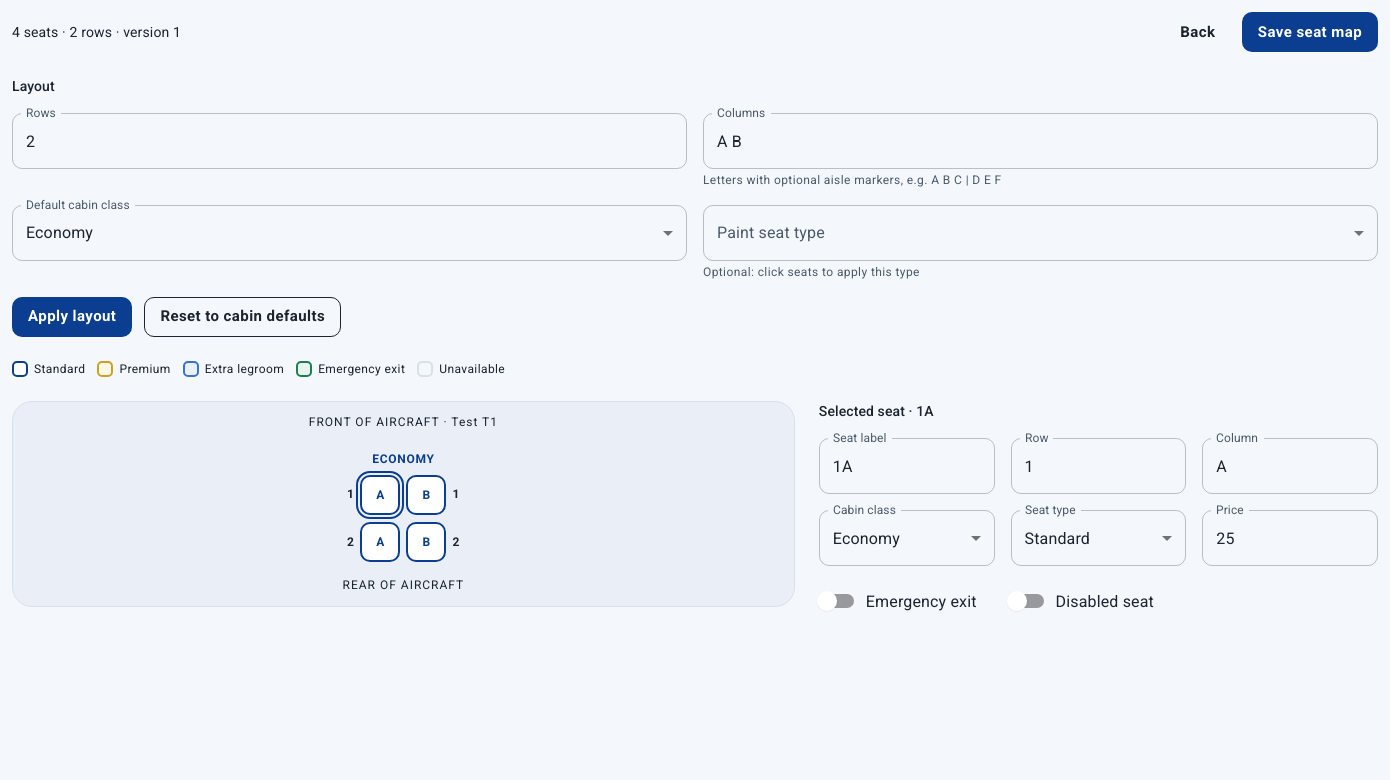
Test: AircraftSeatMapEditor › surfaces apply-layout Zod, Error, and unknown failures
Click the button "Apply layout" at (72, 317), box 12,297 -> 132,337
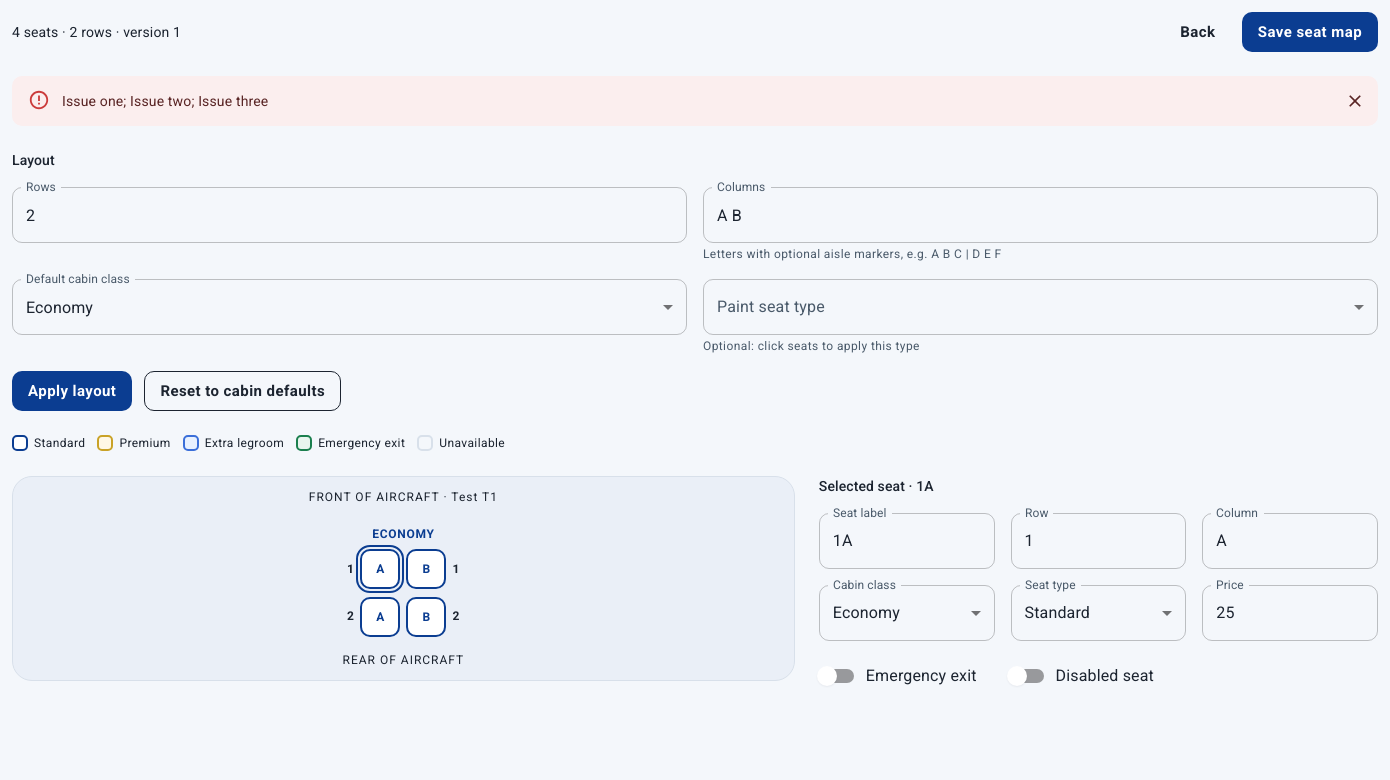
Now the message reads "Issue one; Issue two; Issue three", box 62,93 -> 268,109
Click the button named "Close" at (1355, 101), box 1340,86 -> 1370,116
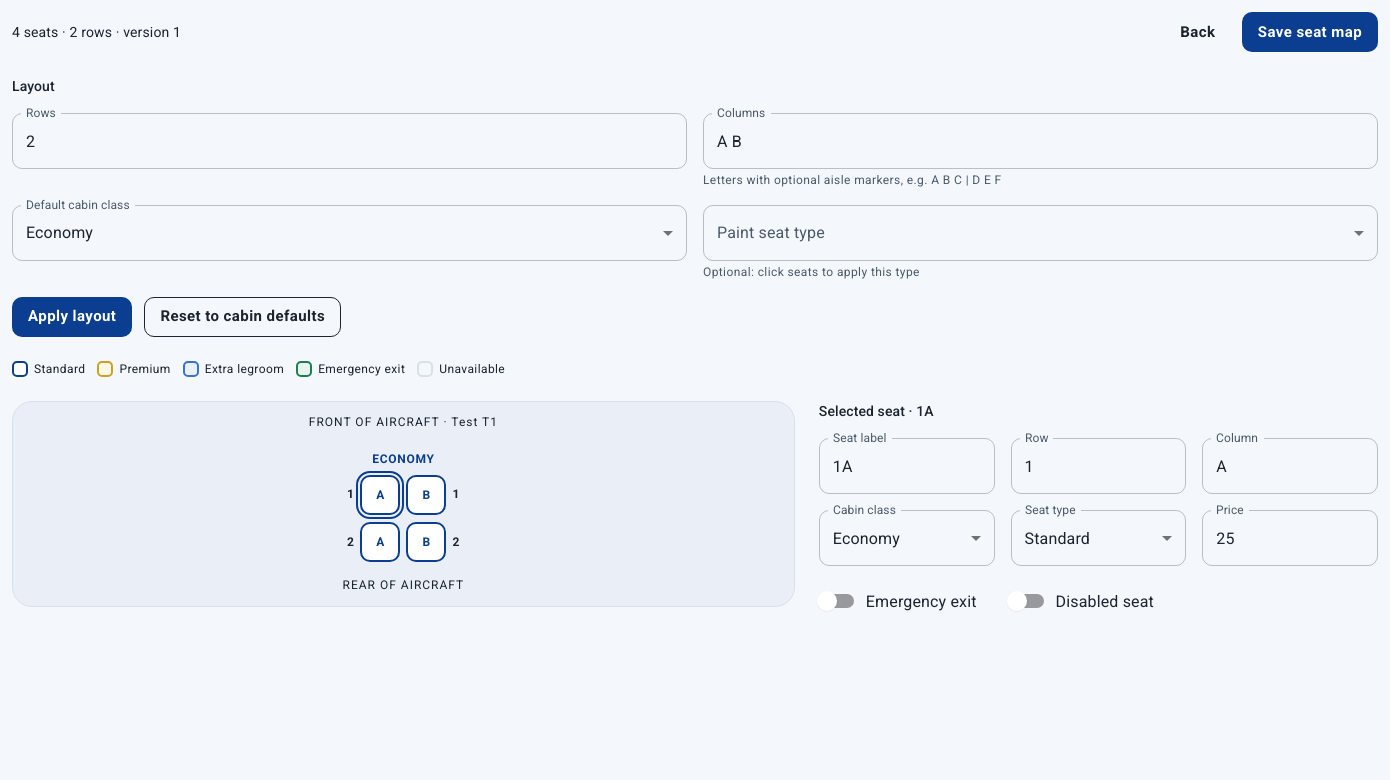
Now the message "Issue one; Issue two; Issue three" is gone
Click the button "Apply layout" at (72, 317), box 12,297 -> 132,337
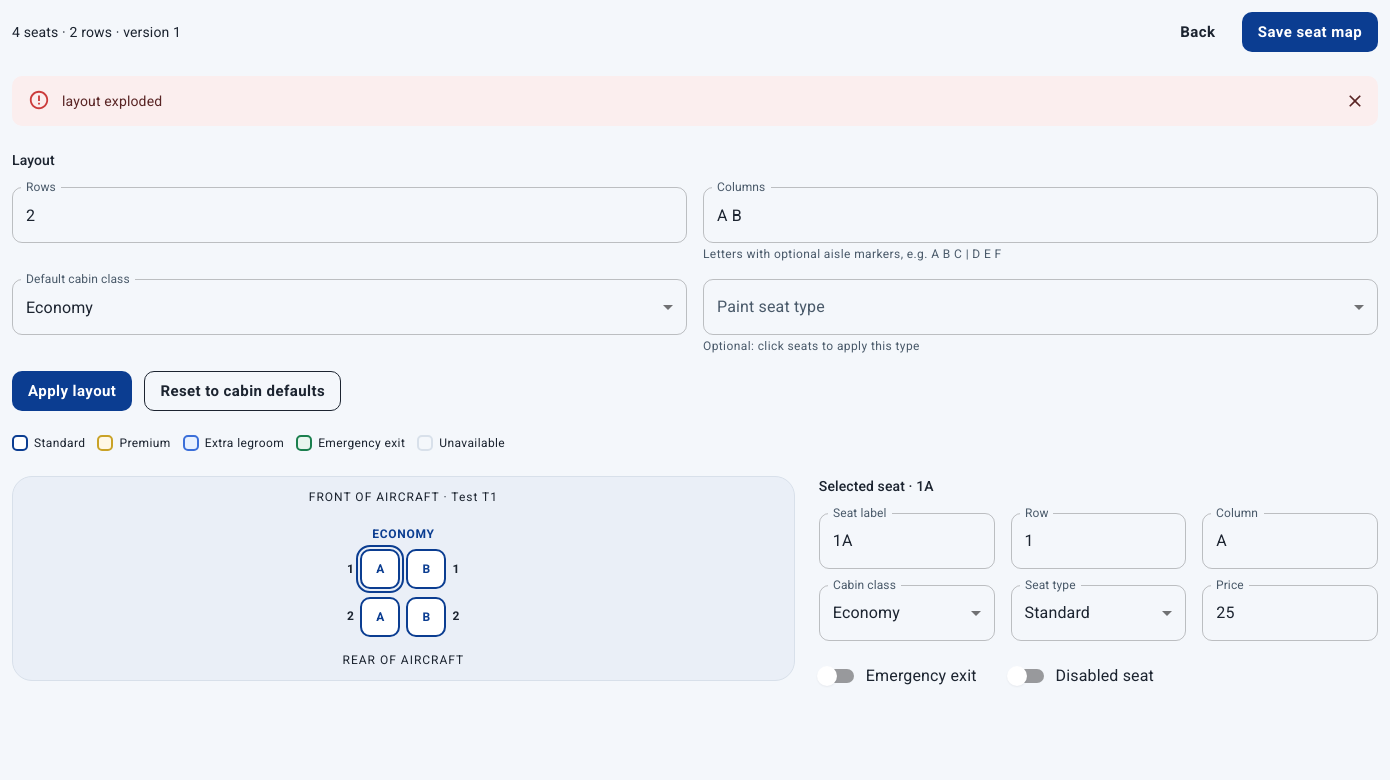
Now the message reads "layout exploded", box 62,93 -> 162,109
Click the button named "Close" at (1355, 101), box 1340,86 -> 1370,116
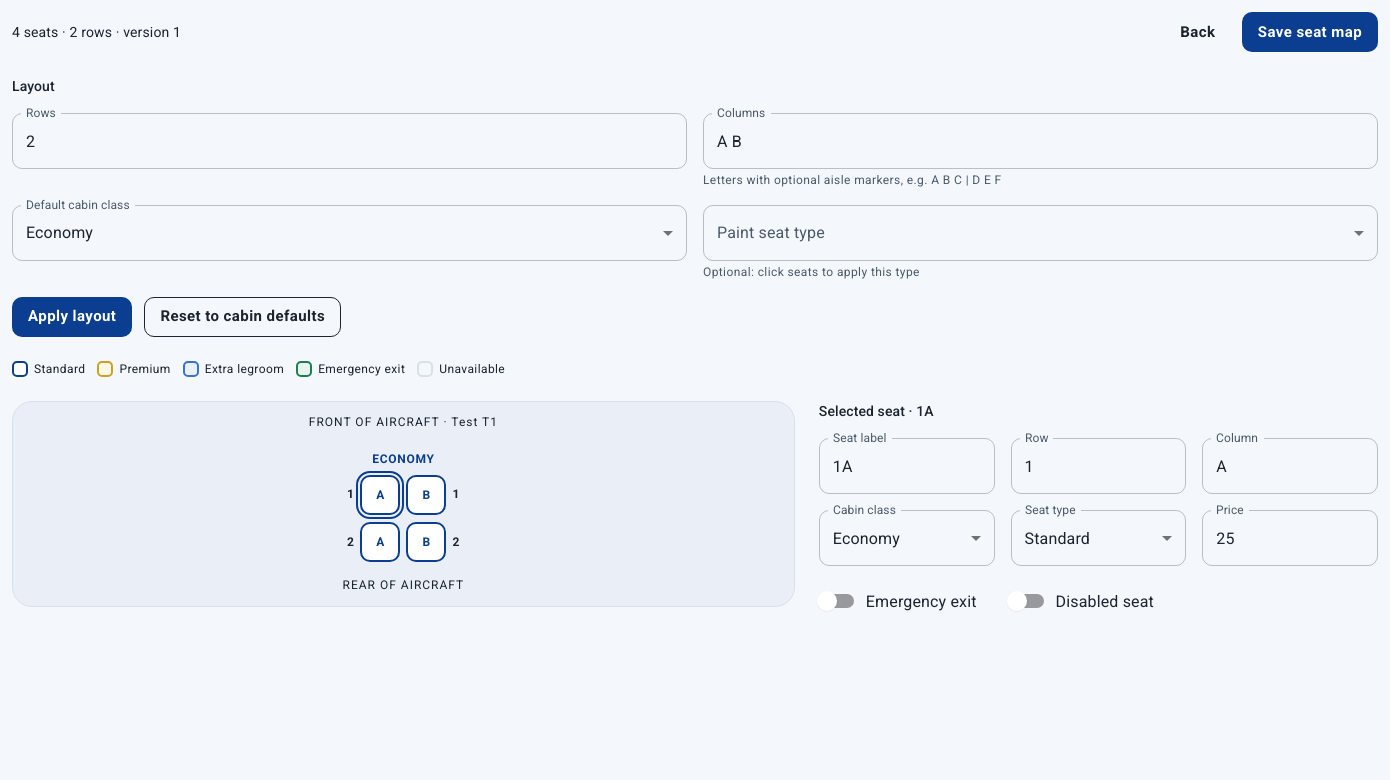
Click the button "Apply layout" at (72, 317), box 12,297 -> 132,337
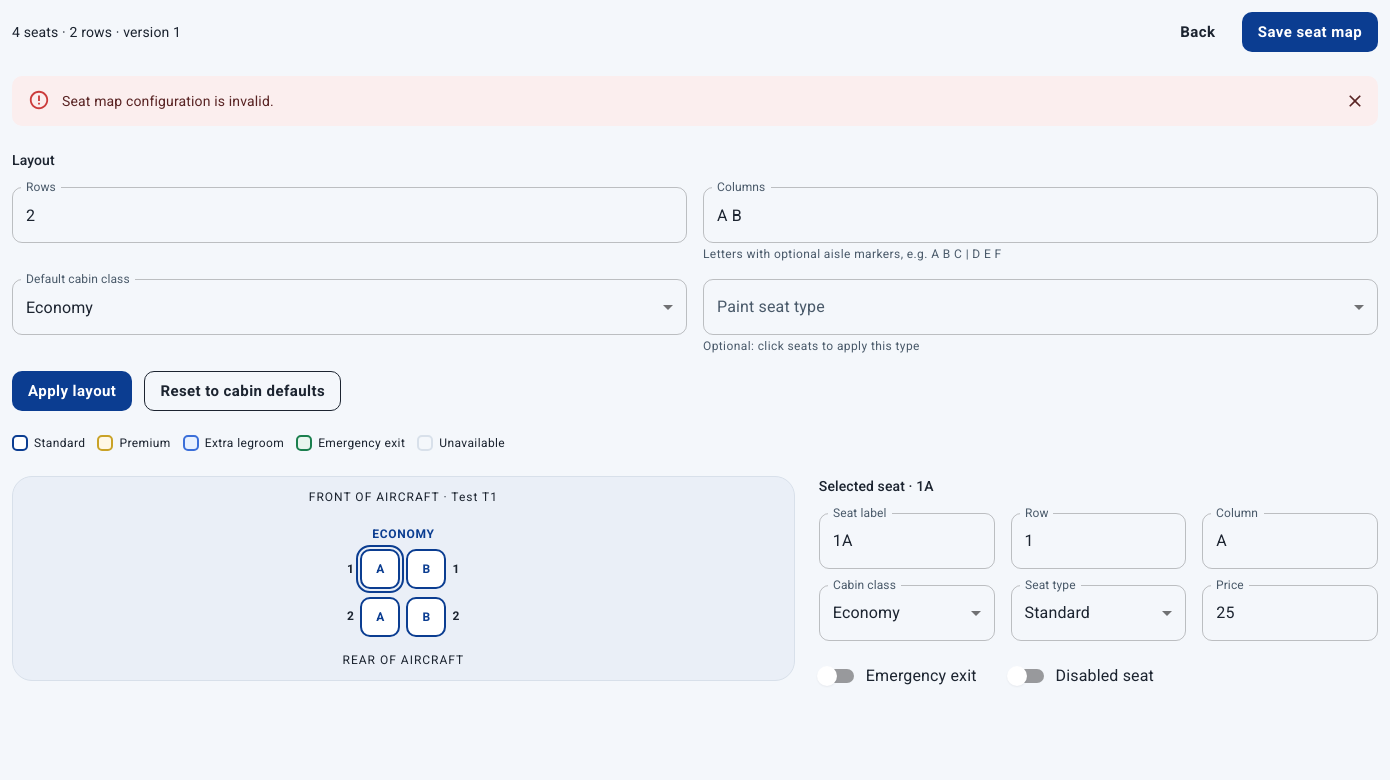
Now the message reads "Seat map configuration is invalid.", box 62,93 -> 274,109
